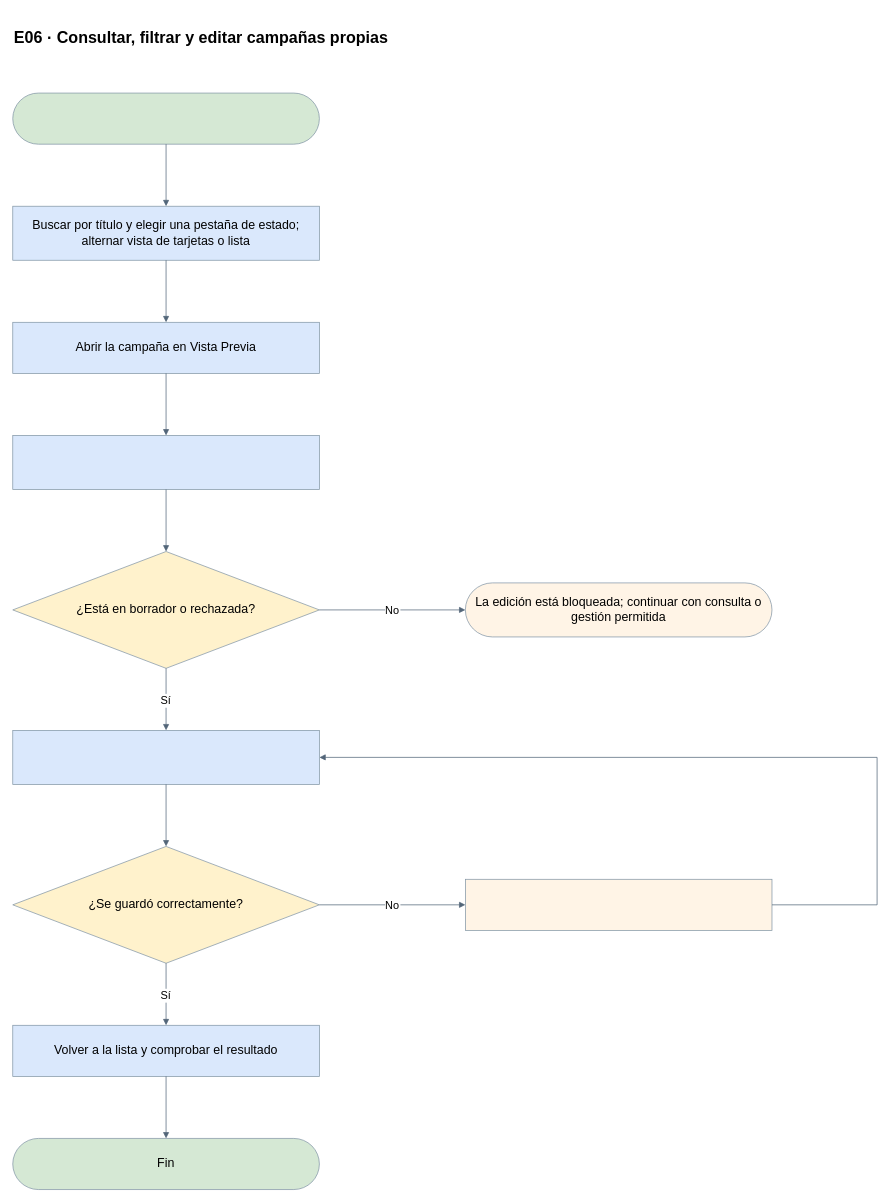
The diagram is 896 pixels wide and 1202 high, and some of its shapes have lost their labels. The shapes that lost their labels are listed below. From the top down, each one's centre as x and y in pixels, then its label:
point (165, 118): Inicio
point (165, 462): Consultar detalles, historial, documentos y las pestañas disponibles
point (165, 757): Pulsar Editar, modificar datos, adjuntar respaldo requerido y guardar
point (618, 904): Corregir el error y guardar nuevamente
